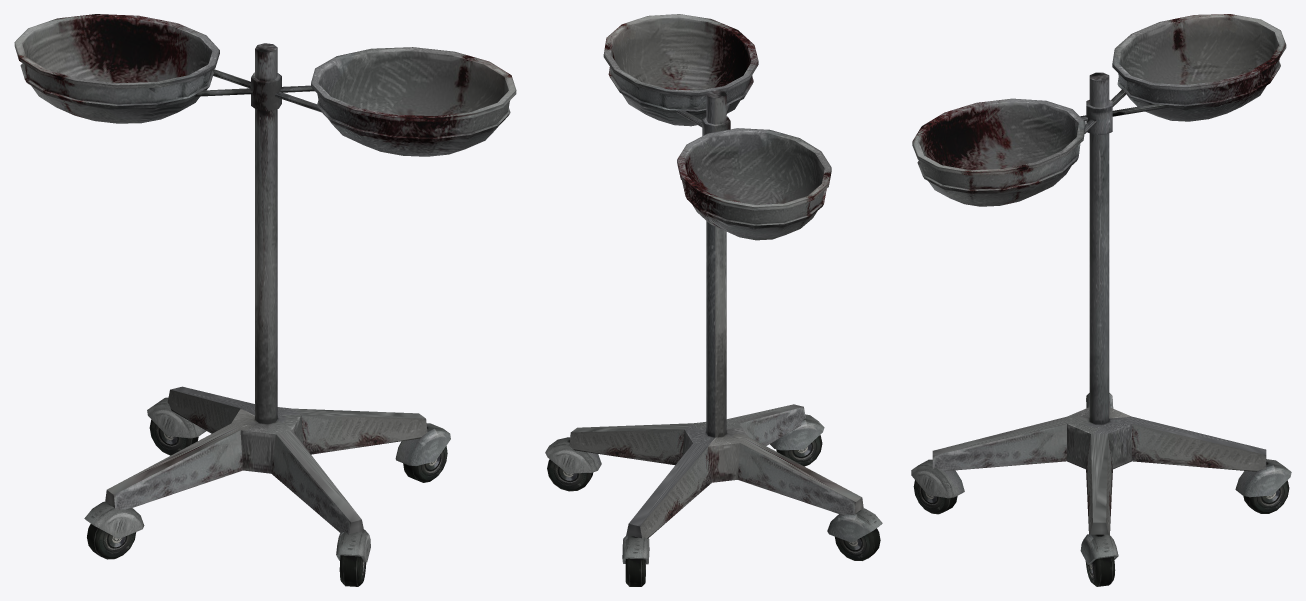
Rendered from toolsTable.fbx.
3 renders of one model, left to right at view 1: azimuth 30°, elevation 25°; view 2: azimuth 150°, elevation 25°; view 3: azimuth 270°, elevation 25°, orthographic. The views are drawn at different scales.
Parts seen in each view (by area): view 1: polySurface472; view 2: polySurface472; view 3: polySurface472.
Boxes of the visible parts, x1,y1,x2,y2 form: polySurface472: (14,14,516,586); polySurface472: (545,14,882,586); polySurface472: (911,14,1291,586).
Bounding box in the file's own units: 72.63 × 90.43 × 71.6.
